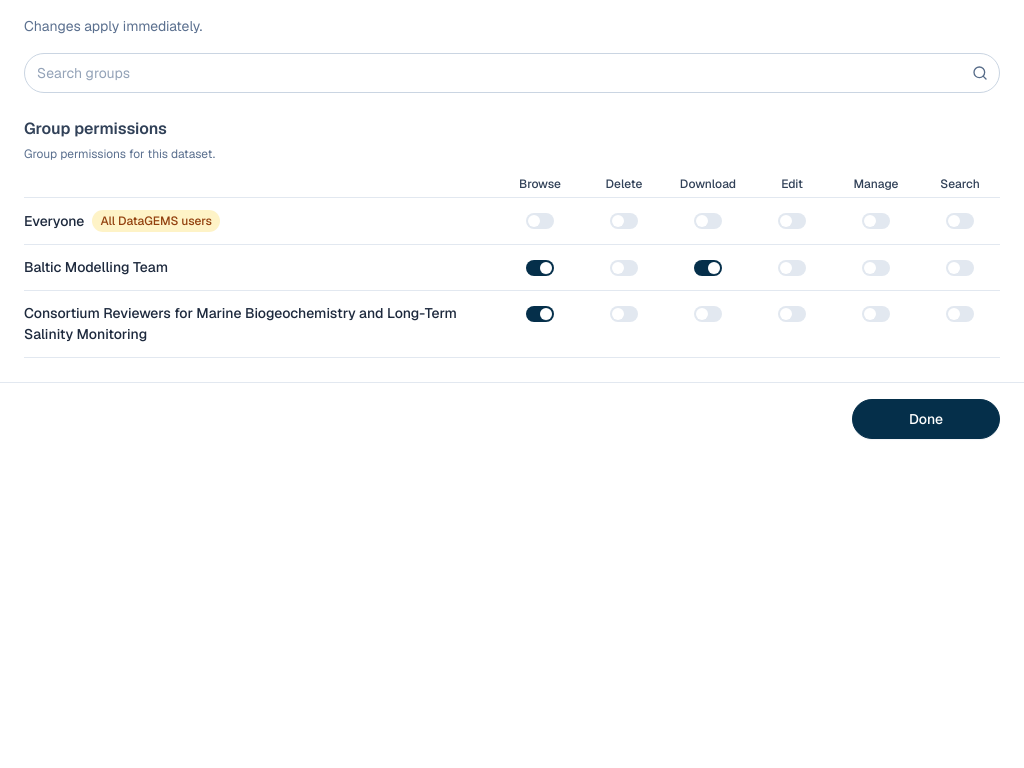
Test: DatasetAccessView — confirmations › discards an unconfirmed change when the owner changes
Click the switch named "Baltic Modelling Team — Manage" at [876, 268], box top-left (862, 260), bottom-right (890, 276)
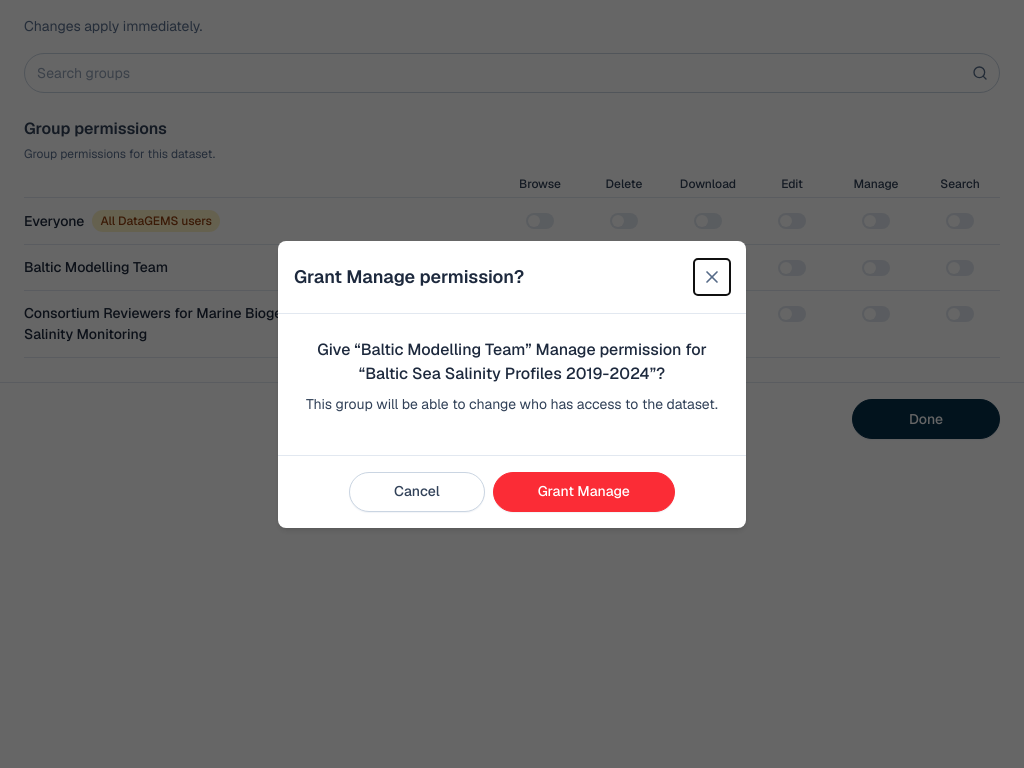
Expected: the dialog is shown
